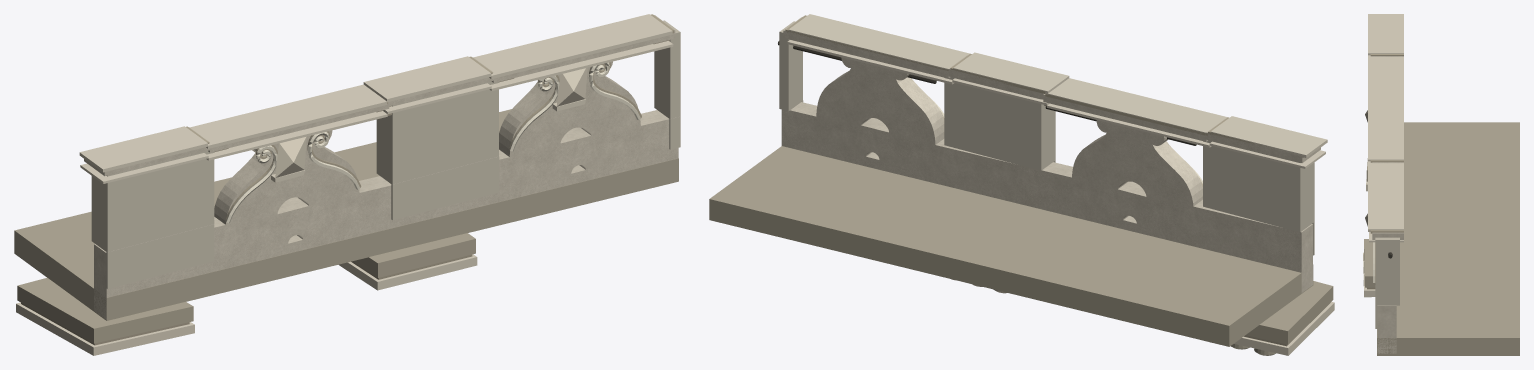
Rendered from huangpu-huade-building-scroll-parapet-lod.glb.
The picture shows the model from 3 angles, left to right: view 1: azimuth 30°, elevation 25°; view 2: azimuth 150°, elevation 25°; view 3: azimuth 270°, elevation 25°; orthographic projection. The views are drawn at different scales.
Visible parts, largest first — view 1: 华德大楼四川中路立面双卷草栏板与圆饰托板; view 2: 华德大楼四川中路立面双卷草栏板与圆饰托板; view 3: 华德大楼四川中路立面双卷草栏板与圆饰托板.
Part boxes in pixels (box(x1,y1,x2,y2)): 华德大楼四川中路立面双卷草栏板与圆饰托板: box(14, 14, 680, 355); 华德大楼四川中路立面双卷草栏板与圆饰托板: box(709, 14, 1334, 355); 华德大楼四川中路立面双卷草栏板与圆饰托板: box(1363, 14, 1519, 355).
Bounding box in the file's own units: 3.53 × 1.07 × 1.01.
11 materials, 1 textured.
